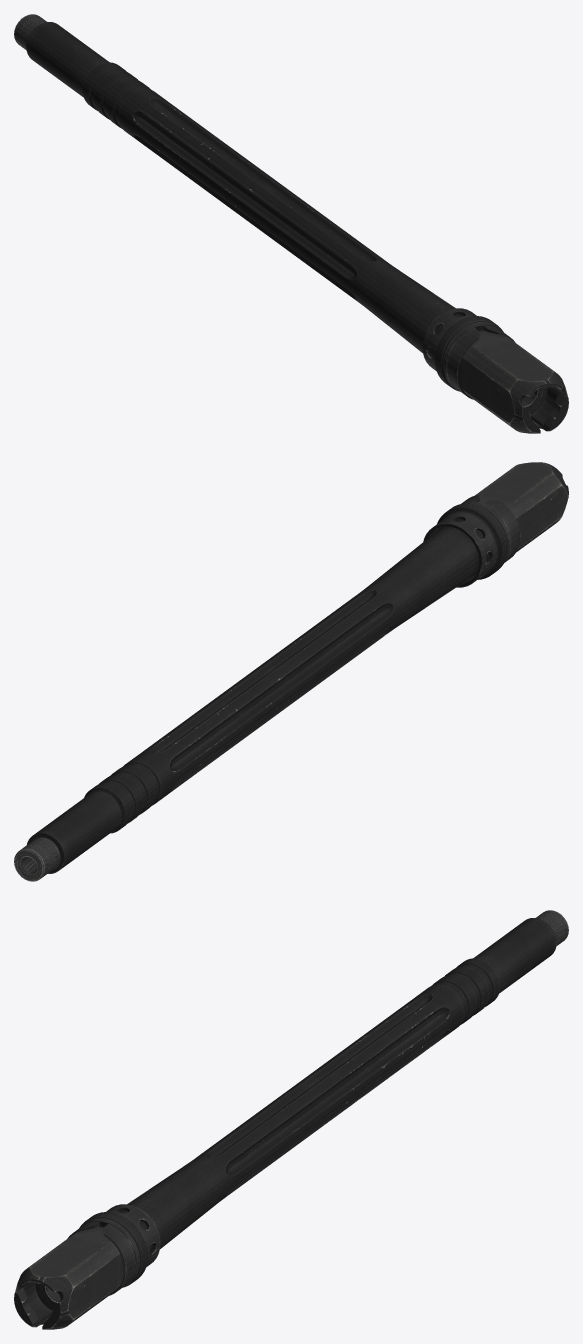
3 renders of one model, top to bottom at view 1: azimuth 30°, elevation 25°; view 2: azimuth 150°, elevation 25°; view 3: azimuth 330°, elevation 25°, orthographic.
Parts seen in each view (by area): view 1: TW_67405d760098dcb5940ea1a6_PZ_Import; view 2: TW_67405d760098dcb5940ea1a6_PZ_Import; view 3: TW_67405d760098dcb5940ea1a6_PZ_Import.
Boxes of the visible parts, x1,y1,x2,y2 form: TW_67405d760098dcb5940ea1a6_PZ_Import: (14,14,568,433); TW_67405d760098dcb5940ea1a6_PZ_Import: (14,462,568,881); TW_67405d760098dcb5940ea1a6_PZ_Import: (14,910,568,1329).
Bounding box in the file's own units: 0.0225 × 0.2987 × 0.0225.
Materials: 1 (1 with a texture image).
